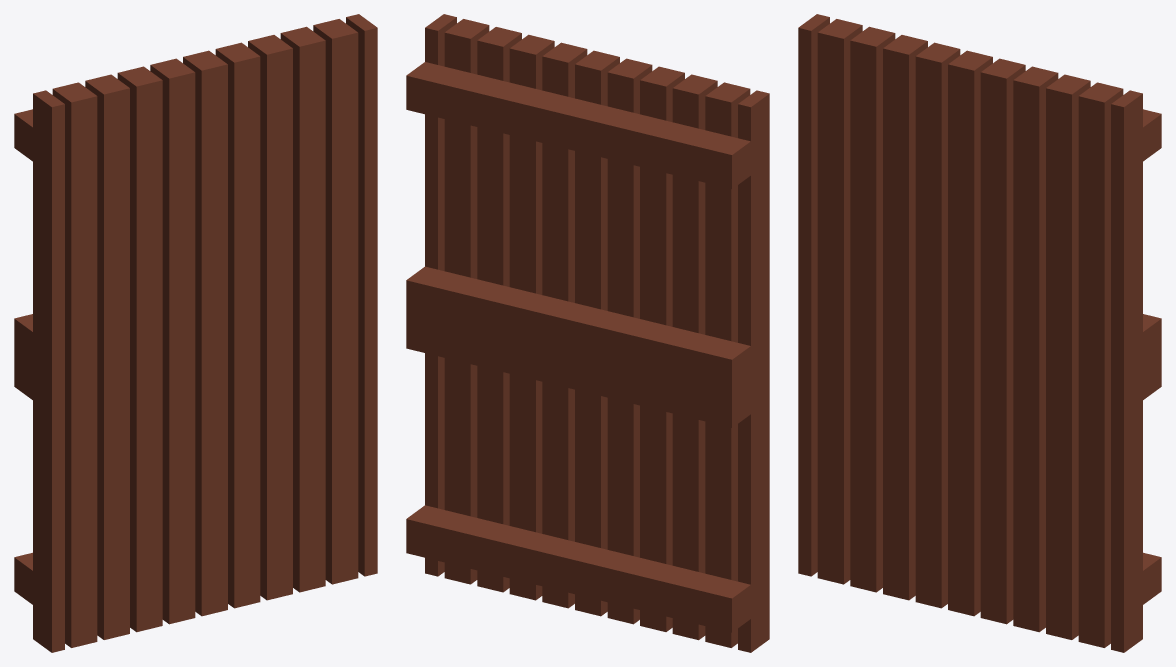
Rendered from PicketFence version 2.fbx.
3 views of the same model, side by side, from view 1: azimuth 30°, elevation 25°; view 2: azimuth 150°, elevation 25°; view 3: azimuth 330°, elevation 25° (orthographic).
Visible parts, largest first — view 1: PicketFence version 2; view 2: PicketFence version 2; view 3: PicketFence version 2.
Part boxes in pixels (x1,y1,x2,y2): PicketFence version 2: [14, 14, 377, 652]; PicketFence version 2: [406, 14, 769, 652]; PicketFence version 2: [798, 14, 1161, 652].
Bounding box in the file's own units: 100 × 160 × 20.
